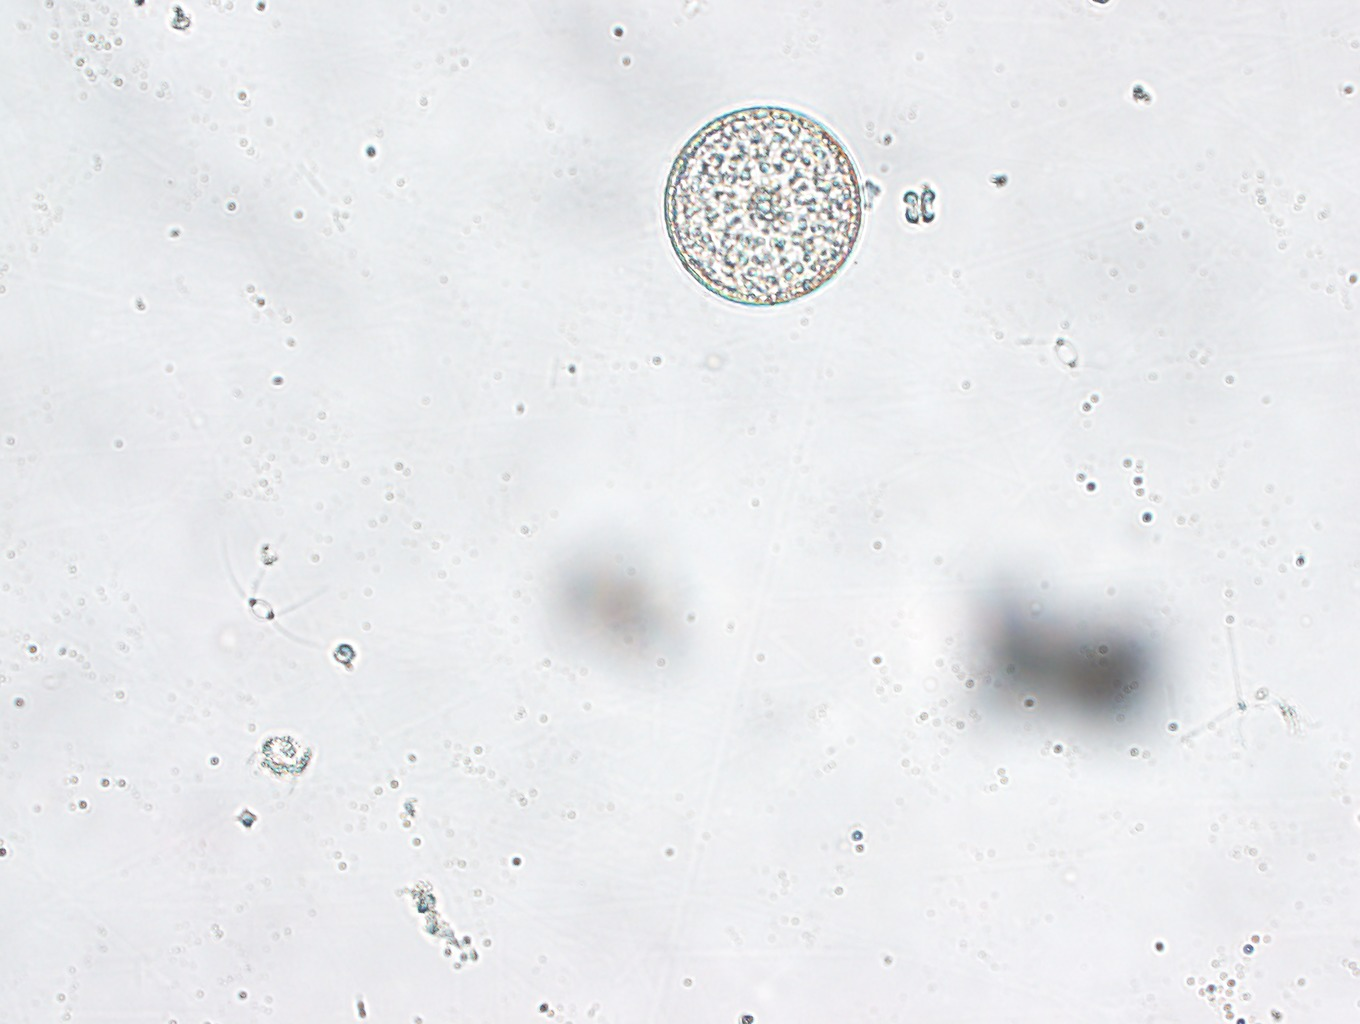coscinodiscus: (662, 103, 867, 307)
